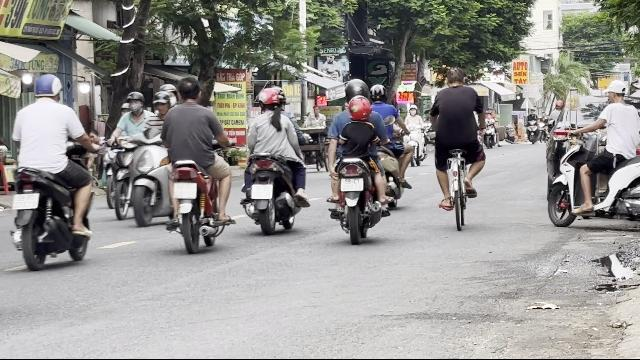helmet: (32, 73, 62, 101), (258, 87, 284, 112), (348, 96, 372, 120), (125, 90, 145, 114), (344, 78, 368, 98), (152, 91, 170, 113), (158, 84, 176, 106), (368, 82, 386, 102)
licenseplate: (12, 194, 40, 210), (173, 183, 197, 199), (341, 178, 364, 192), (252, 185, 272, 199)
motorcyclist: (5, 70, 96, 270), (544, 75, 640, 235), (324, 78, 411, 242), (157, 74, 235, 252), (238, 86, 310, 234), (101, 88, 169, 224)
nohelmet: (175, 74, 202, 102), (605, 80, 627, 102)
